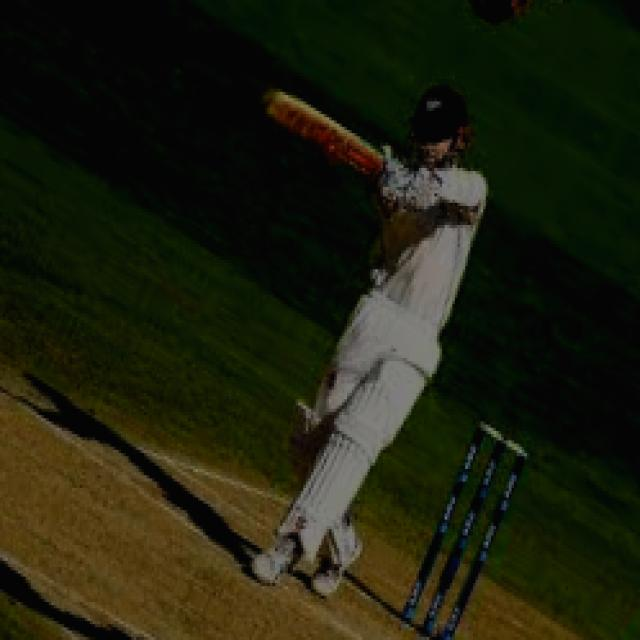toe: (259, 90, 292, 126)
